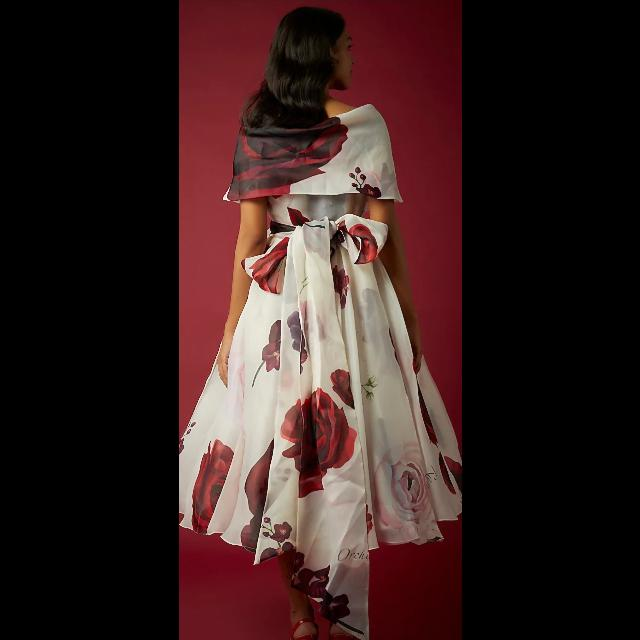dress: (194, 100, 436, 640)
